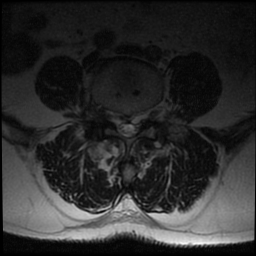CCS_normal: (124, 108, 133, 146)
LFS_normal: (141, 100, 149, 128)
LLS_normal: (133, 101, 140, 140)
RFS_normal: (107, 100, 115, 129)
RLS_normal: (115, 103, 124, 140)
